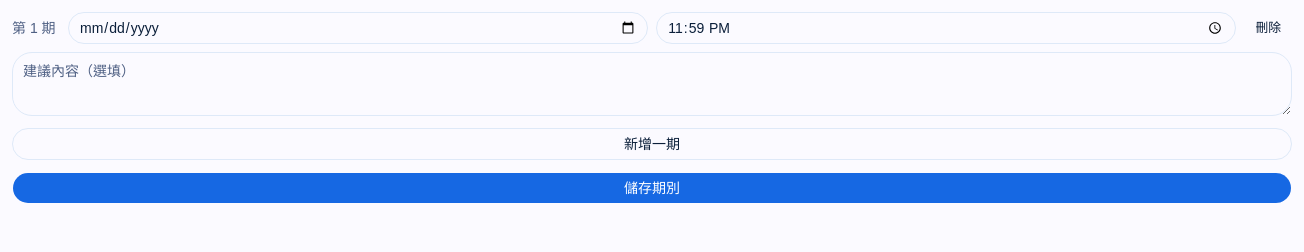
Test: PeriodsForm › savePeriods 丟例外時，錯誤訊息要顯示出來
Type "2026-10-01" into the date field named "第 1 期日期" at coordinates (358, 28), box [68, 12, 648, 44]
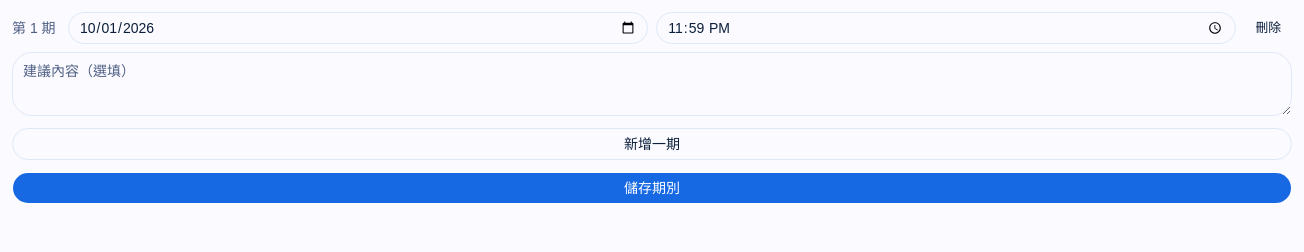
Click the button "儲存期別" at coordinates (652, 188), box [12, 172, 1292, 204]
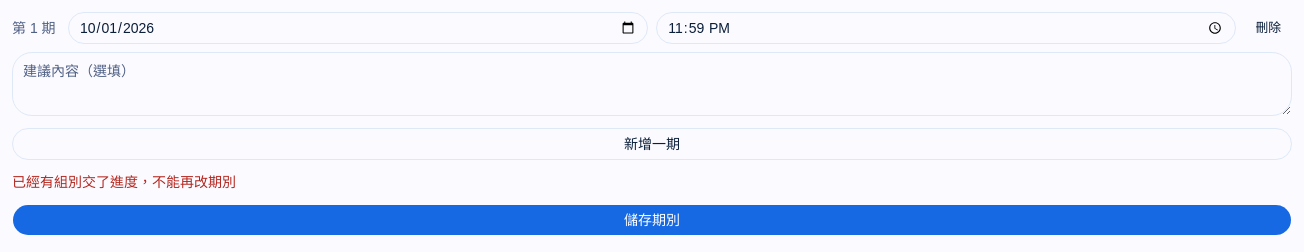
Expected: the list item "已經有組別交了進度，不能再改期別" is shown, [12, 174, 236, 190]
